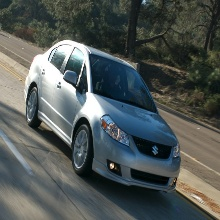no damage: (23, 39, 181, 195)
